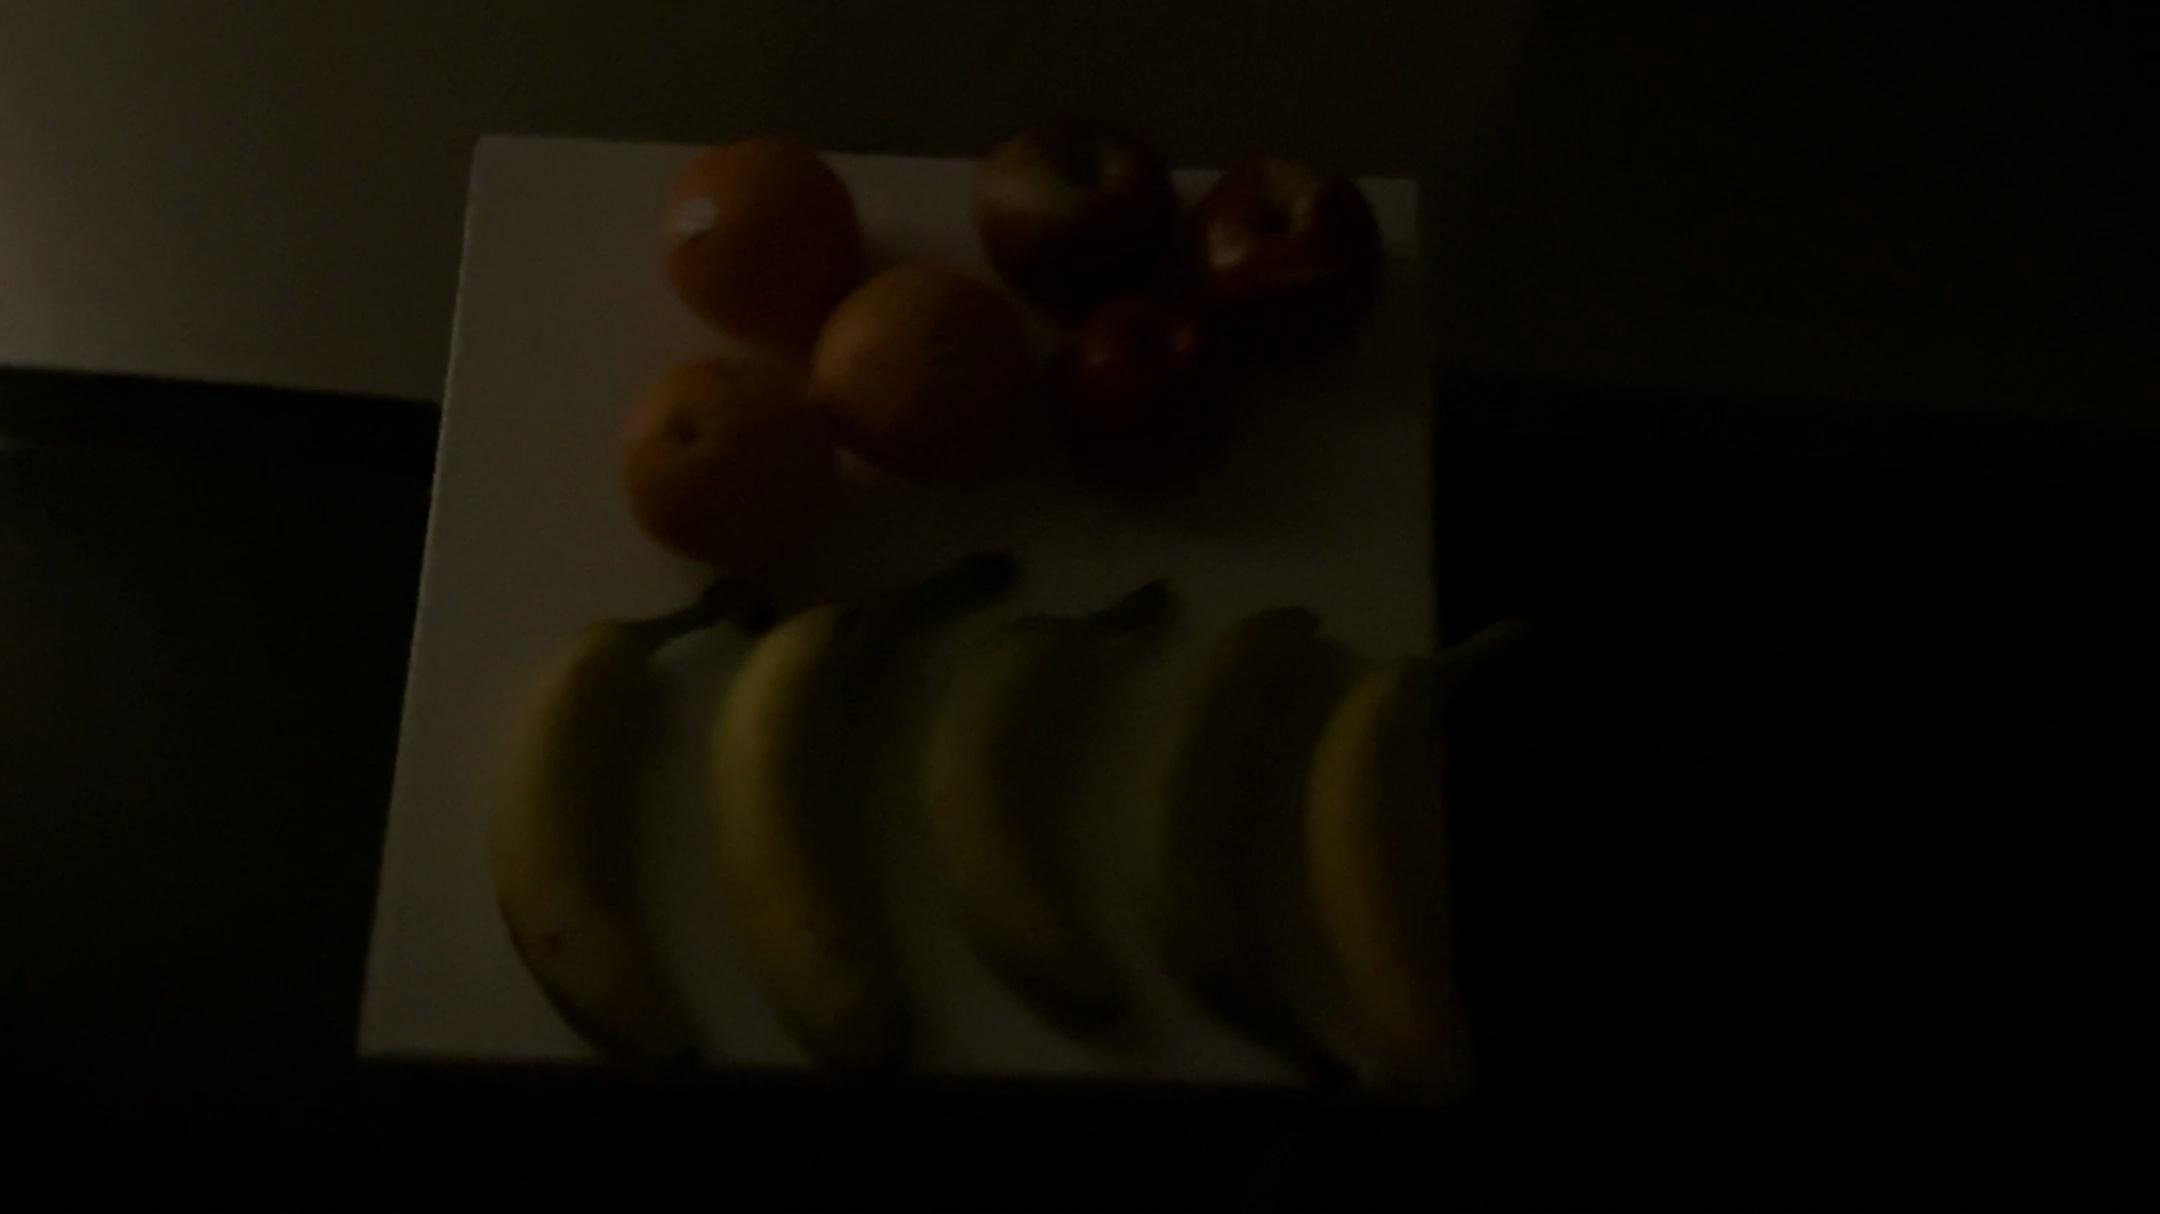apple: (1018, 261, 1239, 521), (1175, 142, 1403, 361), (961, 96, 1170, 321)
banana: (721, 531, 1007, 1107), (469, 554, 776, 1088), (932, 557, 1216, 1070), (1105, 588, 1360, 1060), (1277, 617, 1518, 1086)
orange: (806, 249, 1021, 508), (602, 343, 837, 552), (645, 114, 857, 338)
